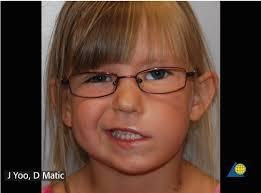strokeEyeMid: (76, 61, 183, 94)
strokeMouthSevere: (103, 123, 154, 152)
